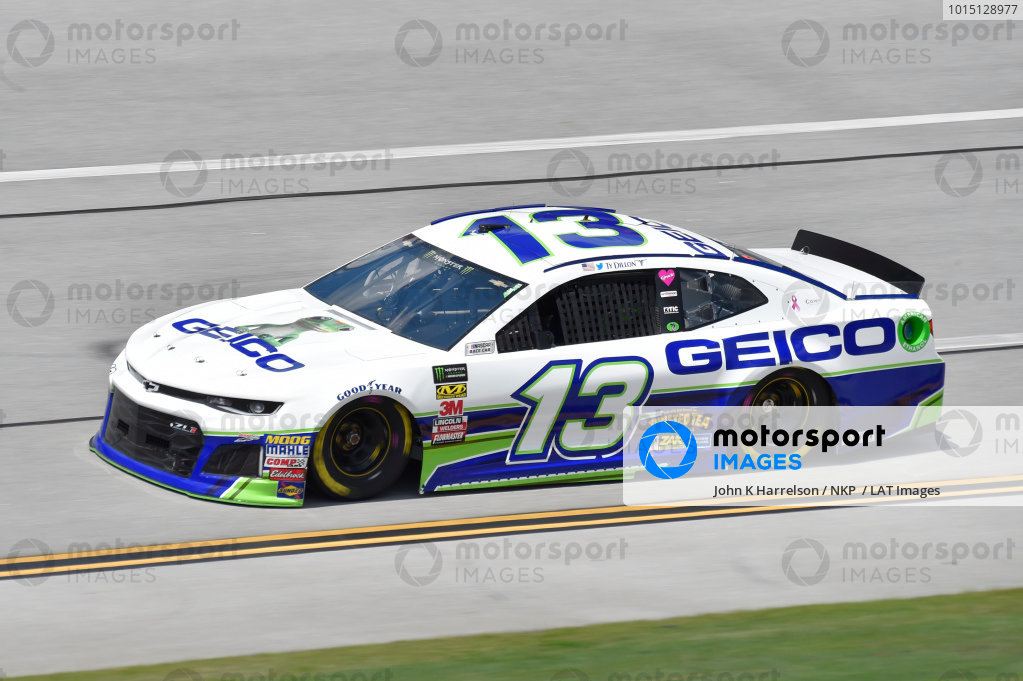geico: (658, 313, 907, 376), (171, 304, 308, 377)
